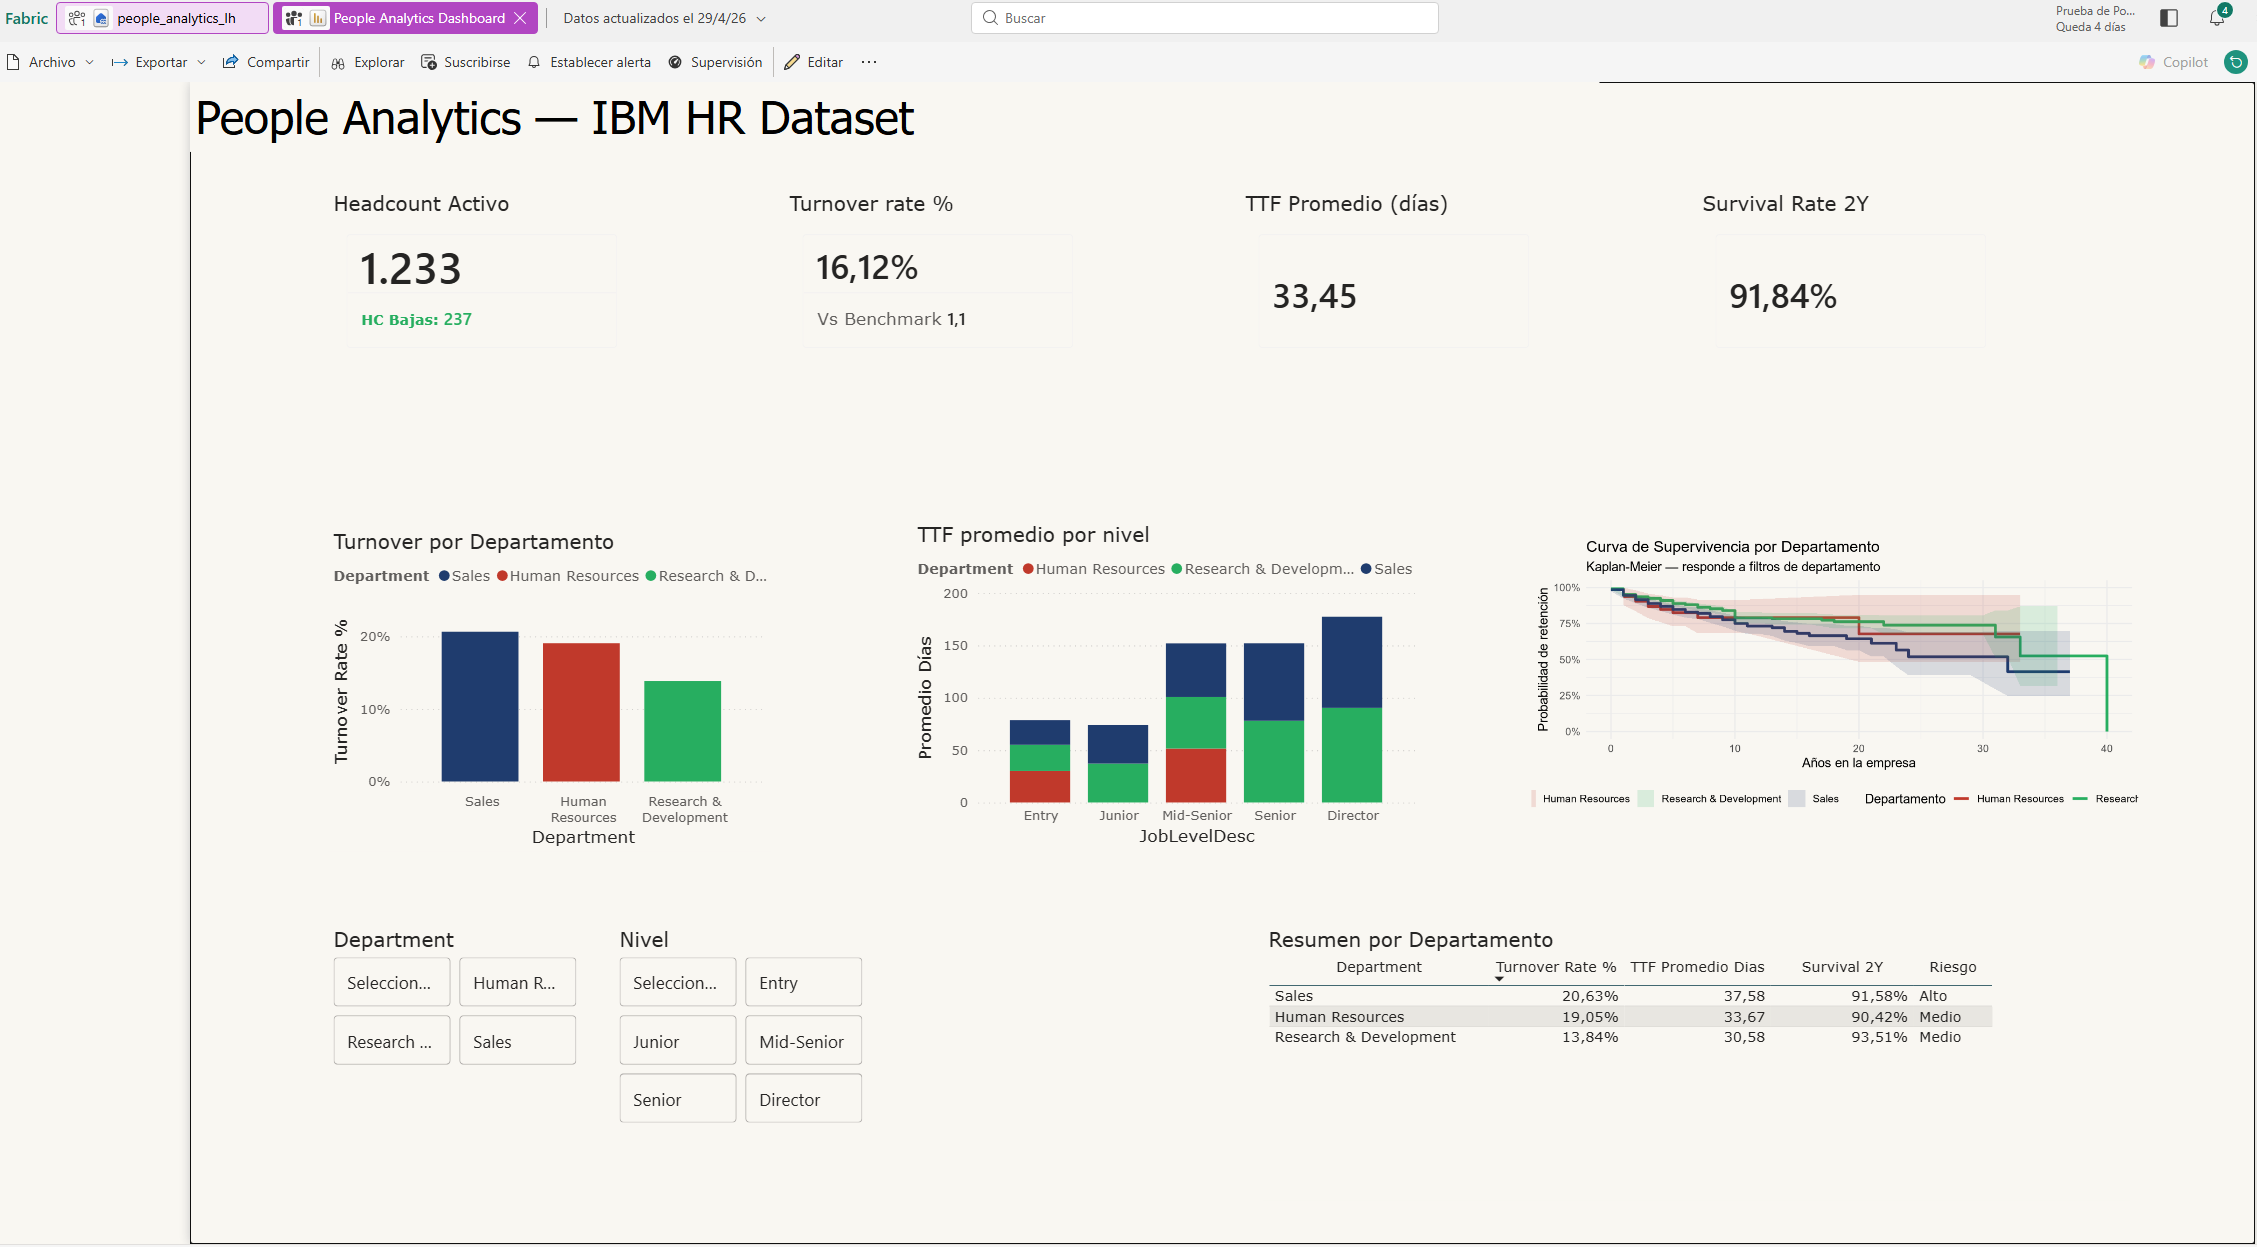

Layout of this report page (visuals, bound fields, positions):
{"tool":"powerbi","page":{"name":"MPV","canvas":[1920,1080],"ordinal":0},"visuals":[{"type":"columnChart","title":"TTF promedio por nivel","fields":{"Category":["DimJobLevel.JobLevelDesc"],"Series":["DimDepartment.Department"],"Y":["Avg(FactTTF.avg_ttf)"]},"box":[671,409,473,306],"z":0},{"type":"columnChart","title":"Turnover por Departamento","fields":{"Category":["DimDepartment.Department"],"Series":["DimDepartment.Department"],"Y":["_Medidas.Turnover Rate %"]},"box":[128,415,412,300],"z":1000},{"type":"tableEx","title":"Resumen por Departamento","fields":{"Values":["DimDepartment.Department","_Medidas.Turnover Rate %","_Medidas.TTF Promedio Dias","_Medidas.Survival Rate 2Y","FactTurnover.Riesgo"]},"box":[997,785,806,254],"z":2000},{"type":"cardVisual","title":"Headcount Activo","fields":{"Data":["_Medidas.HeadCount Activo"]},"box":[128.5,101.8,286,163],"z":3000,"group":"g1"},{"type":"group","id":"g1","title":"Grupo 1","box":[128.5,101.8,1556.6,162.4],"z":3000},{"type":"group","id":"g2","title":"Grupo 2","box":[128,785,502,189],"z":4000},{"type":"advancedSlicerVisual","fields":{"Values":["DimDepartment.Department"]},"box":[128,785,236,189],"z":4000,"group":"g2"},{"type":"cardVisual","title":"Survival Rate 2Y","fields":{"Data":["_Medidas.Survival Rate 2Y"]},"box":[1400.5,101.8,286,163],"z":5000,"group":"g1"},{"type":"scriptVisual","fields":{"Values":["FactSurvival.CI_Lower","FactSurvival.CI_Upper","FactSurvival.Survival","FactSurvival.Time_Years","DimDepartment.Department"]},"box":[1242,415,574,276],"z":5000},{"type":"textbox","box":[0,0,1310,65],"z":6000},{"type":"advancedSlicerVisual","title":"Nivel","fields":{"Values":["DimJobLevel.JobLevelDesc"]},"box":[394,785,236,189],"z":7000,"group":"g2"},{"type":"cardVisual","title":"Turnover rate %","fields":{"Data":["_Medidas.Turnover Rate %"]},"box":[552.5,101.8,286,163],"z":8000,"group":"g1"},{"type":"cardVisual","title":"TTF Promedio (días)","fields":{"Data":["_Medidas.TT Promedio Dias"]},"box":[976.5,101.8,286,163],"z":9000,"group":"g1"}]}

Visuals, with their boxes on the page's 1920x1080 design canvas (x1, y1, x2, y2). These are canvas units, not pixel positions in the 2257x1247 screenshot, which may show the page scaled, cropped or inside an application window:
"TTF promedio por nivel" columnChart: [left=671, top=409, right=1144, bottom=715]
"Turnover por Departamento" columnChart: [left=128, top=415, right=540, bottom=715]
"Resumen por Departamento" tableEx: [left=997, top=785, right=1803, bottom=1039]
"Headcount Activo" cardVisual: [left=128, top=102, right=414, bottom=265]
"Grupo 1" group: [left=128, top=102, right=1685, bottom=264]
"Grupo 2" group: [left=128, top=785, right=630, bottom=974]
advancedSlicerVisual - DimDepartment.Department: [left=128, top=785, right=364, bottom=974]
"Survival Rate 2Y" cardVisual: [left=1400, top=102, right=1686, bottom=265]
scriptVisual - FactSurvival.CI_Lower x FactSurvival.CI_Upper: [left=1242, top=415, right=1816, bottom=691]
textbox: [left=0, top=0, right=1310, bottom=65]
"Nivel" advancedSlicerVisual: [left=394, top=785, right=630, bottom=974]
"Turnover rate %" cardVisual: [left=552, top=102, right=838, bottom=265]
"TTF Promedio (días)" cardVisual: [left=976, top=102, right=1262, bottom=265]
